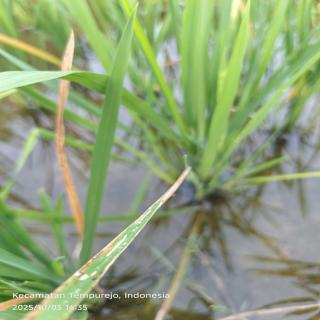Bercak-Cokelat-Sempit: (103, 233, 131, 258), (78, 273, 90, 282)
